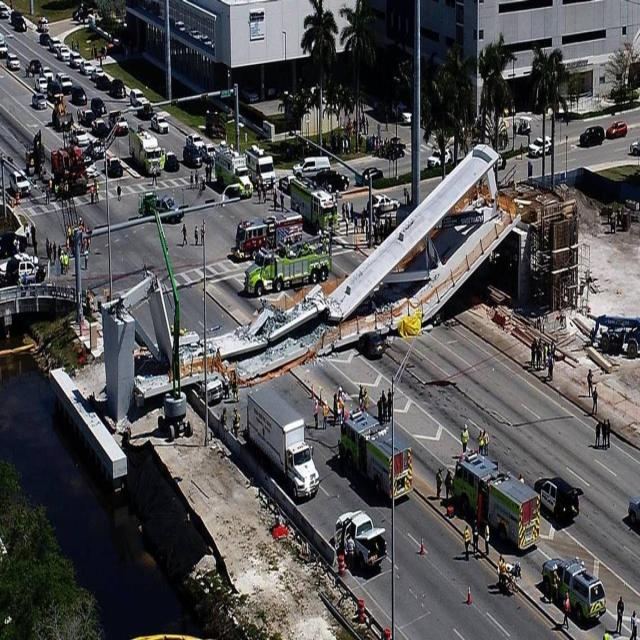collapsed_building: (110, 143, 580, 384)
